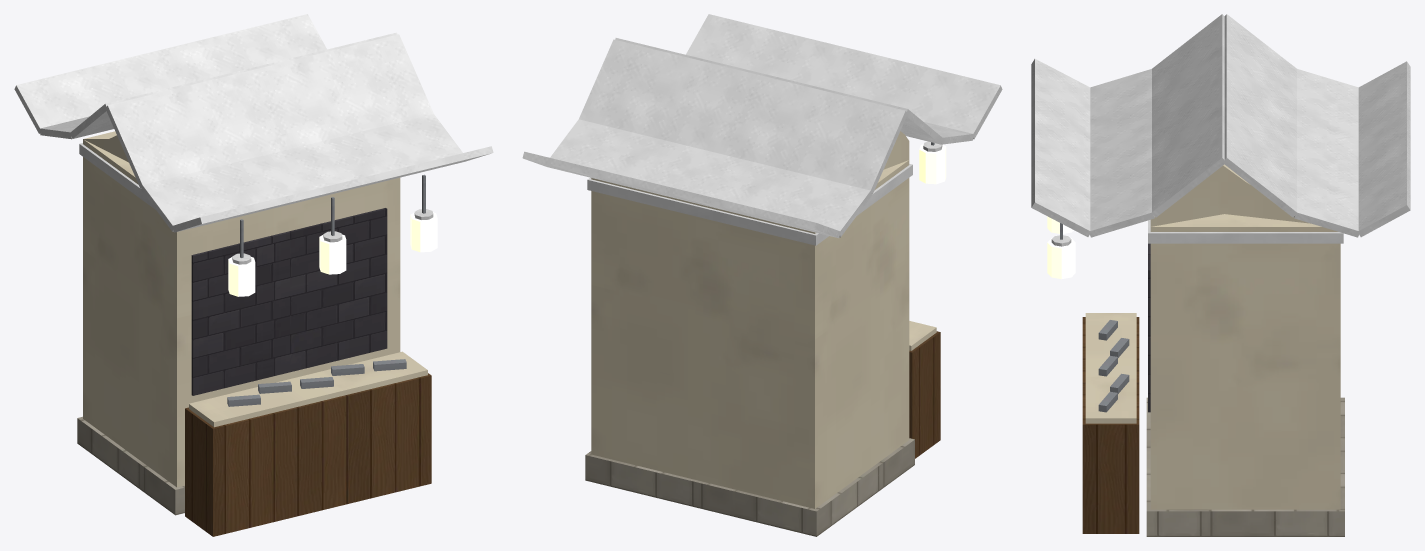
The model's file is protocol.sushiswap.glb.
The picture shows the model from 3 angles, left to right: view 1: azimuth 30°, elevation 25°; view 2: azimuth 150°, elevation 25°; view 3: azimuth 270°, elevation 25°; orthographic projection.
Parts seen in each view (by area): view 1: building.protocol.sushiswap; view 2: building.protocol.sushiswap; view 3: building.protocol.sushiswap.
Part boxes in pixels (<box>): building.protocol.sushiswap: <box>14,14,493,536</box>; building.protocol.sushiswap: <box>522,14,1002,536</box>; building.protocol.sushiswap: <box>1031,14,1410,536</box>.
Bounding box in the file's own units: 2.4 × 3.07 × 2.68.
8 materials, 7 textured.
